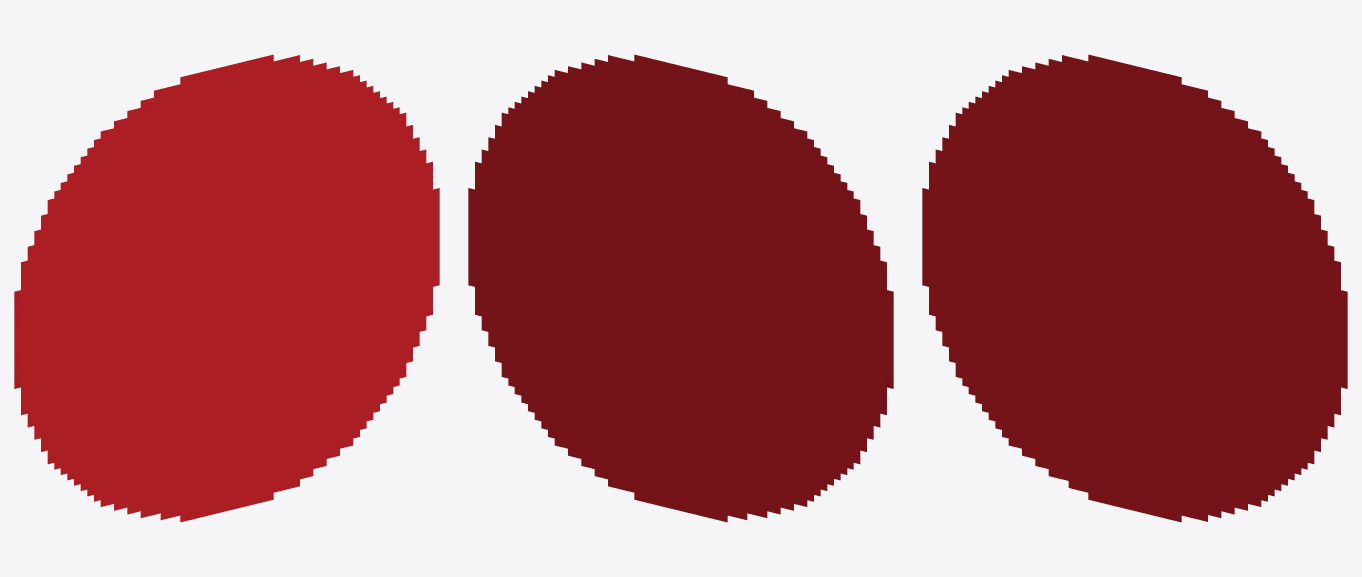
Rendered from croshair.obj.
3 views of the same model, side by side, from view 1: azimuth 30°, elevation 25°; view 2: azimuth 150°, elevation 25°; view 3: azimuth 330°, elevation 25° (orthographic).
Visible parts, largest first — view 1: Plane001; view 2: Plane001; view 3: Plane001.
Boxes of the visible parts, bbox=[...] form: Plane001: bbox=[14, 54, 439, 522]; Plane001: bbox=[468, 54, 893, 522]; Plane001: bbox=[922, 54, 1347, 522].
Size of the model in its own units: 1 by 1 by 0.
1 material, 1 textured.
